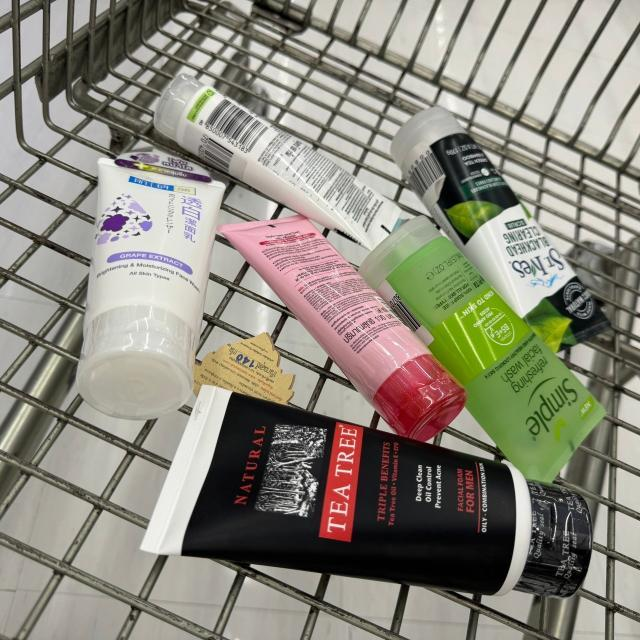Squeeze Tube: (149, 380, 592, 604), (359, 217, 614, 477), (375, 100, 632, 350), (218, 215, 478, 436), (146, 74, 403, 255), (73, 159, 229, 421)
